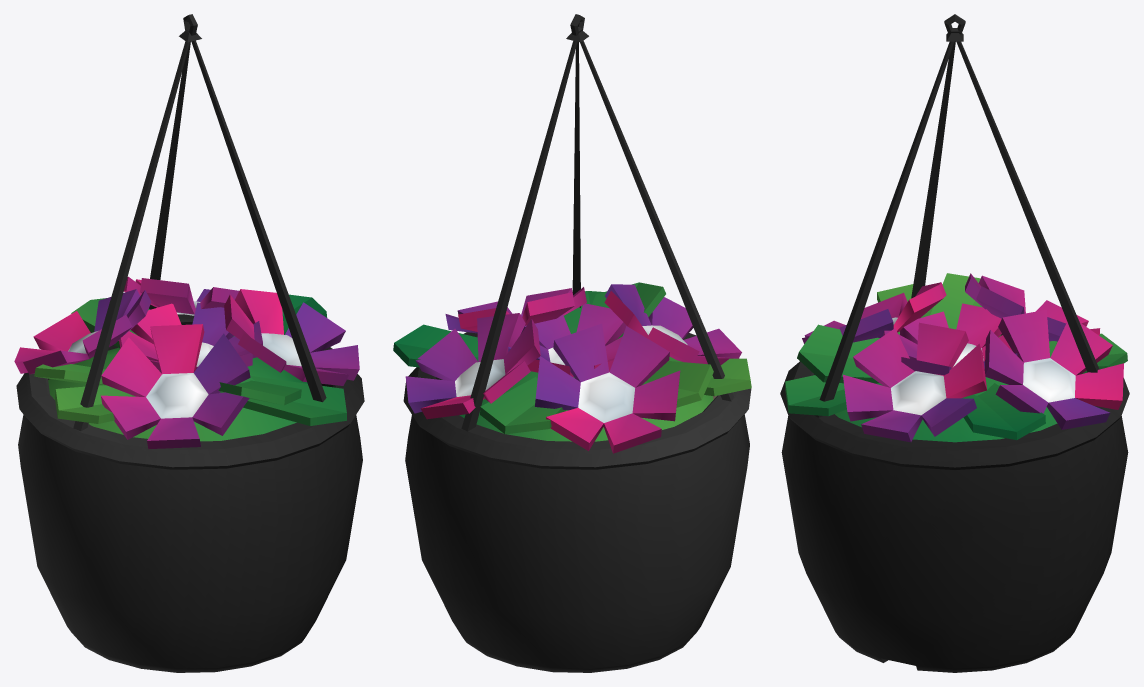
Rendered from HangingFlowerPotPurple.fbx.
The picture shows the model from 3 angles, left to right: view 1: azimuth 30°, elevation 25°; view 2: azimuth 150°, elevation 25°; view 3: azimuth 270°, elevation 25°; orthographic projection.
Visible parts, largest first — view 1: HangingFlowerPotPurple; view 2: HangingFlowerPotPurple; view 3: HangingFlowerPotPurple.
Part boxes in pixels (bbox=[...]): HangingFlowerPotPurple: bbox=[14, 14, 364, 672]; HangingFlowerPotPurple: bbox=[393, 14, 751, 672]; HangingFlowerPotPurple: bbox=[780, 14, 1129, 672].
Size of the model in its own units: 0.7937 by 1.5 by 0.7841.
